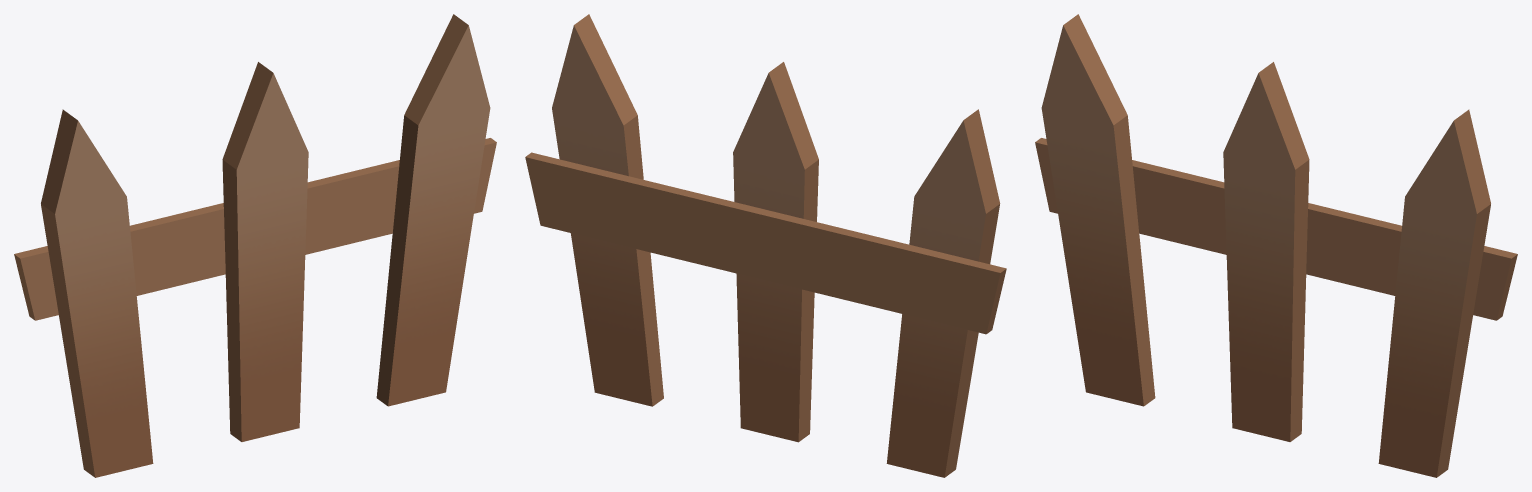
The model's file is fence.fbx.
3 renders of one model, left to right at view 1: azimuth 30°, elevation 25°; view 2: azimuth 150°, elevation 25°; view 3: azimuth 330°, elevation 25°, orthographic.
Visible parts, largest first — view 1: board3, board2, board1, board4; view 2: board4, board3, board2, board1; view 3: board1, board2, board3, board4.
Part boxes in pixels (box(x1,y1,x2,y2)): board3: box(376, 14, 490, 406); board2: box(222, 62, 308, 441); board1: box(41, 109, 153, 477); board4: box(14, 138, 496, 320); board4: box(525, 152, 1006, 334); board3: box(552, 14, 663, 406); board2: box(733, 62, 818, 442); board1: box(886, 109, 1000, 477); board1: box(1041, 14, 1155, 406); board2: box(1223, 62, 1309, 441); board3: box(1378, 109, 1490, 477); board4: box(1035, 138, 1517, 320).
Bounding box in the file's own units: 5.34 × 3.9 × 0.4101.
